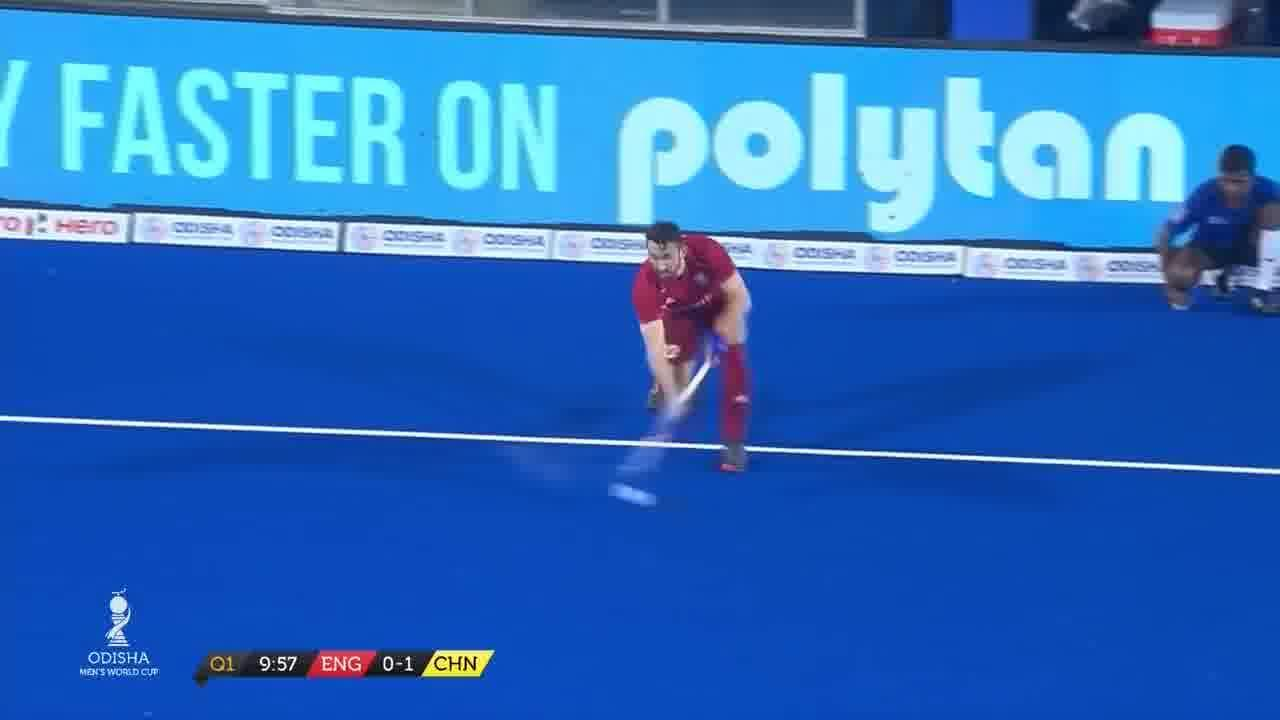ball: (610, 461, 663, 508)
